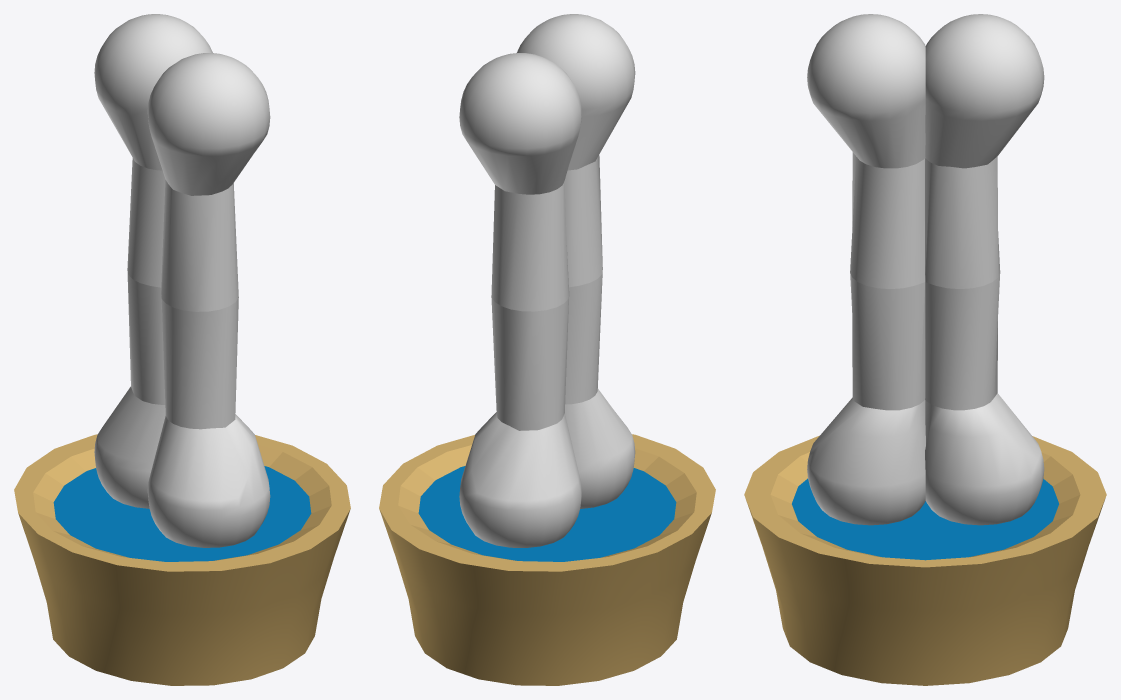
The model's file is bonestatue2.fbx.
The picture shows the model from 3 angles, left to right: view 1: azimuth 30°, elevation 25°; view 2: azimuth 150°, elevation 25°; view 3: azimuth 270°, elevation 25°; orthographic projection. The views are drawn at different scales.
Visible parts, largest first — view 1: bone1; view 2: bone1; view 3: bone1.
Part boxes in pixels (<box>): bone1: <box>14,14,350,685</box>; bone1: <box>379,14,715,685</box>; bone1: <box>744,14,1106,685</box>.
Bounding box in the file's own units: 7.72 × 15.07 × 8.13.
